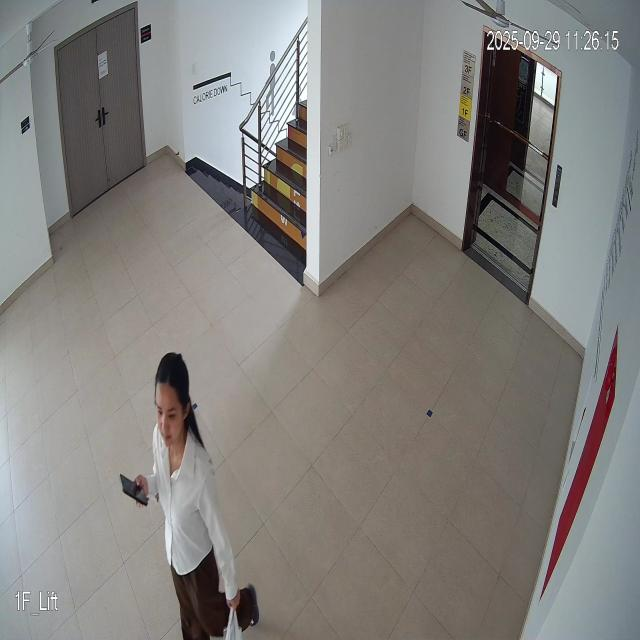face: (150, 348, 192, 454)
